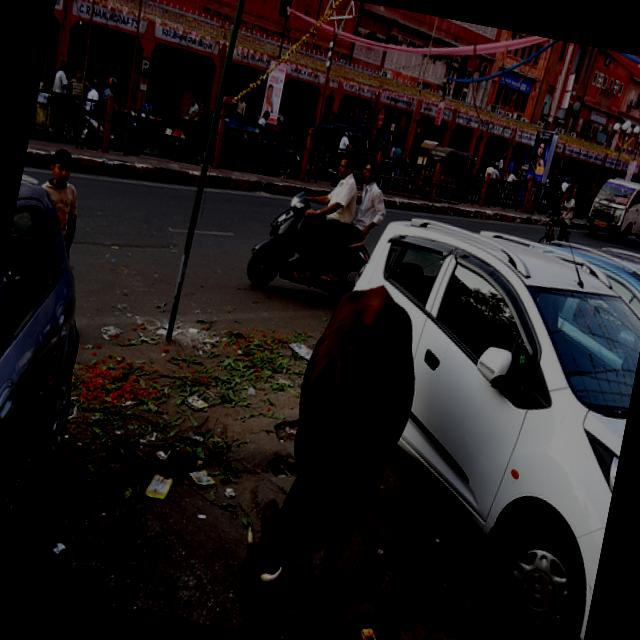Vehicle: (288, 203, 640, 640), (0, 171, 117, 591), (245, 183, 380, 304), (523, 235, 640, 370), (158, 100, 310, 182), (78, 109, 142, 158), (324, 148, 366, 186), (380, 152, 414, 194), (484, 180, 503, 207)
